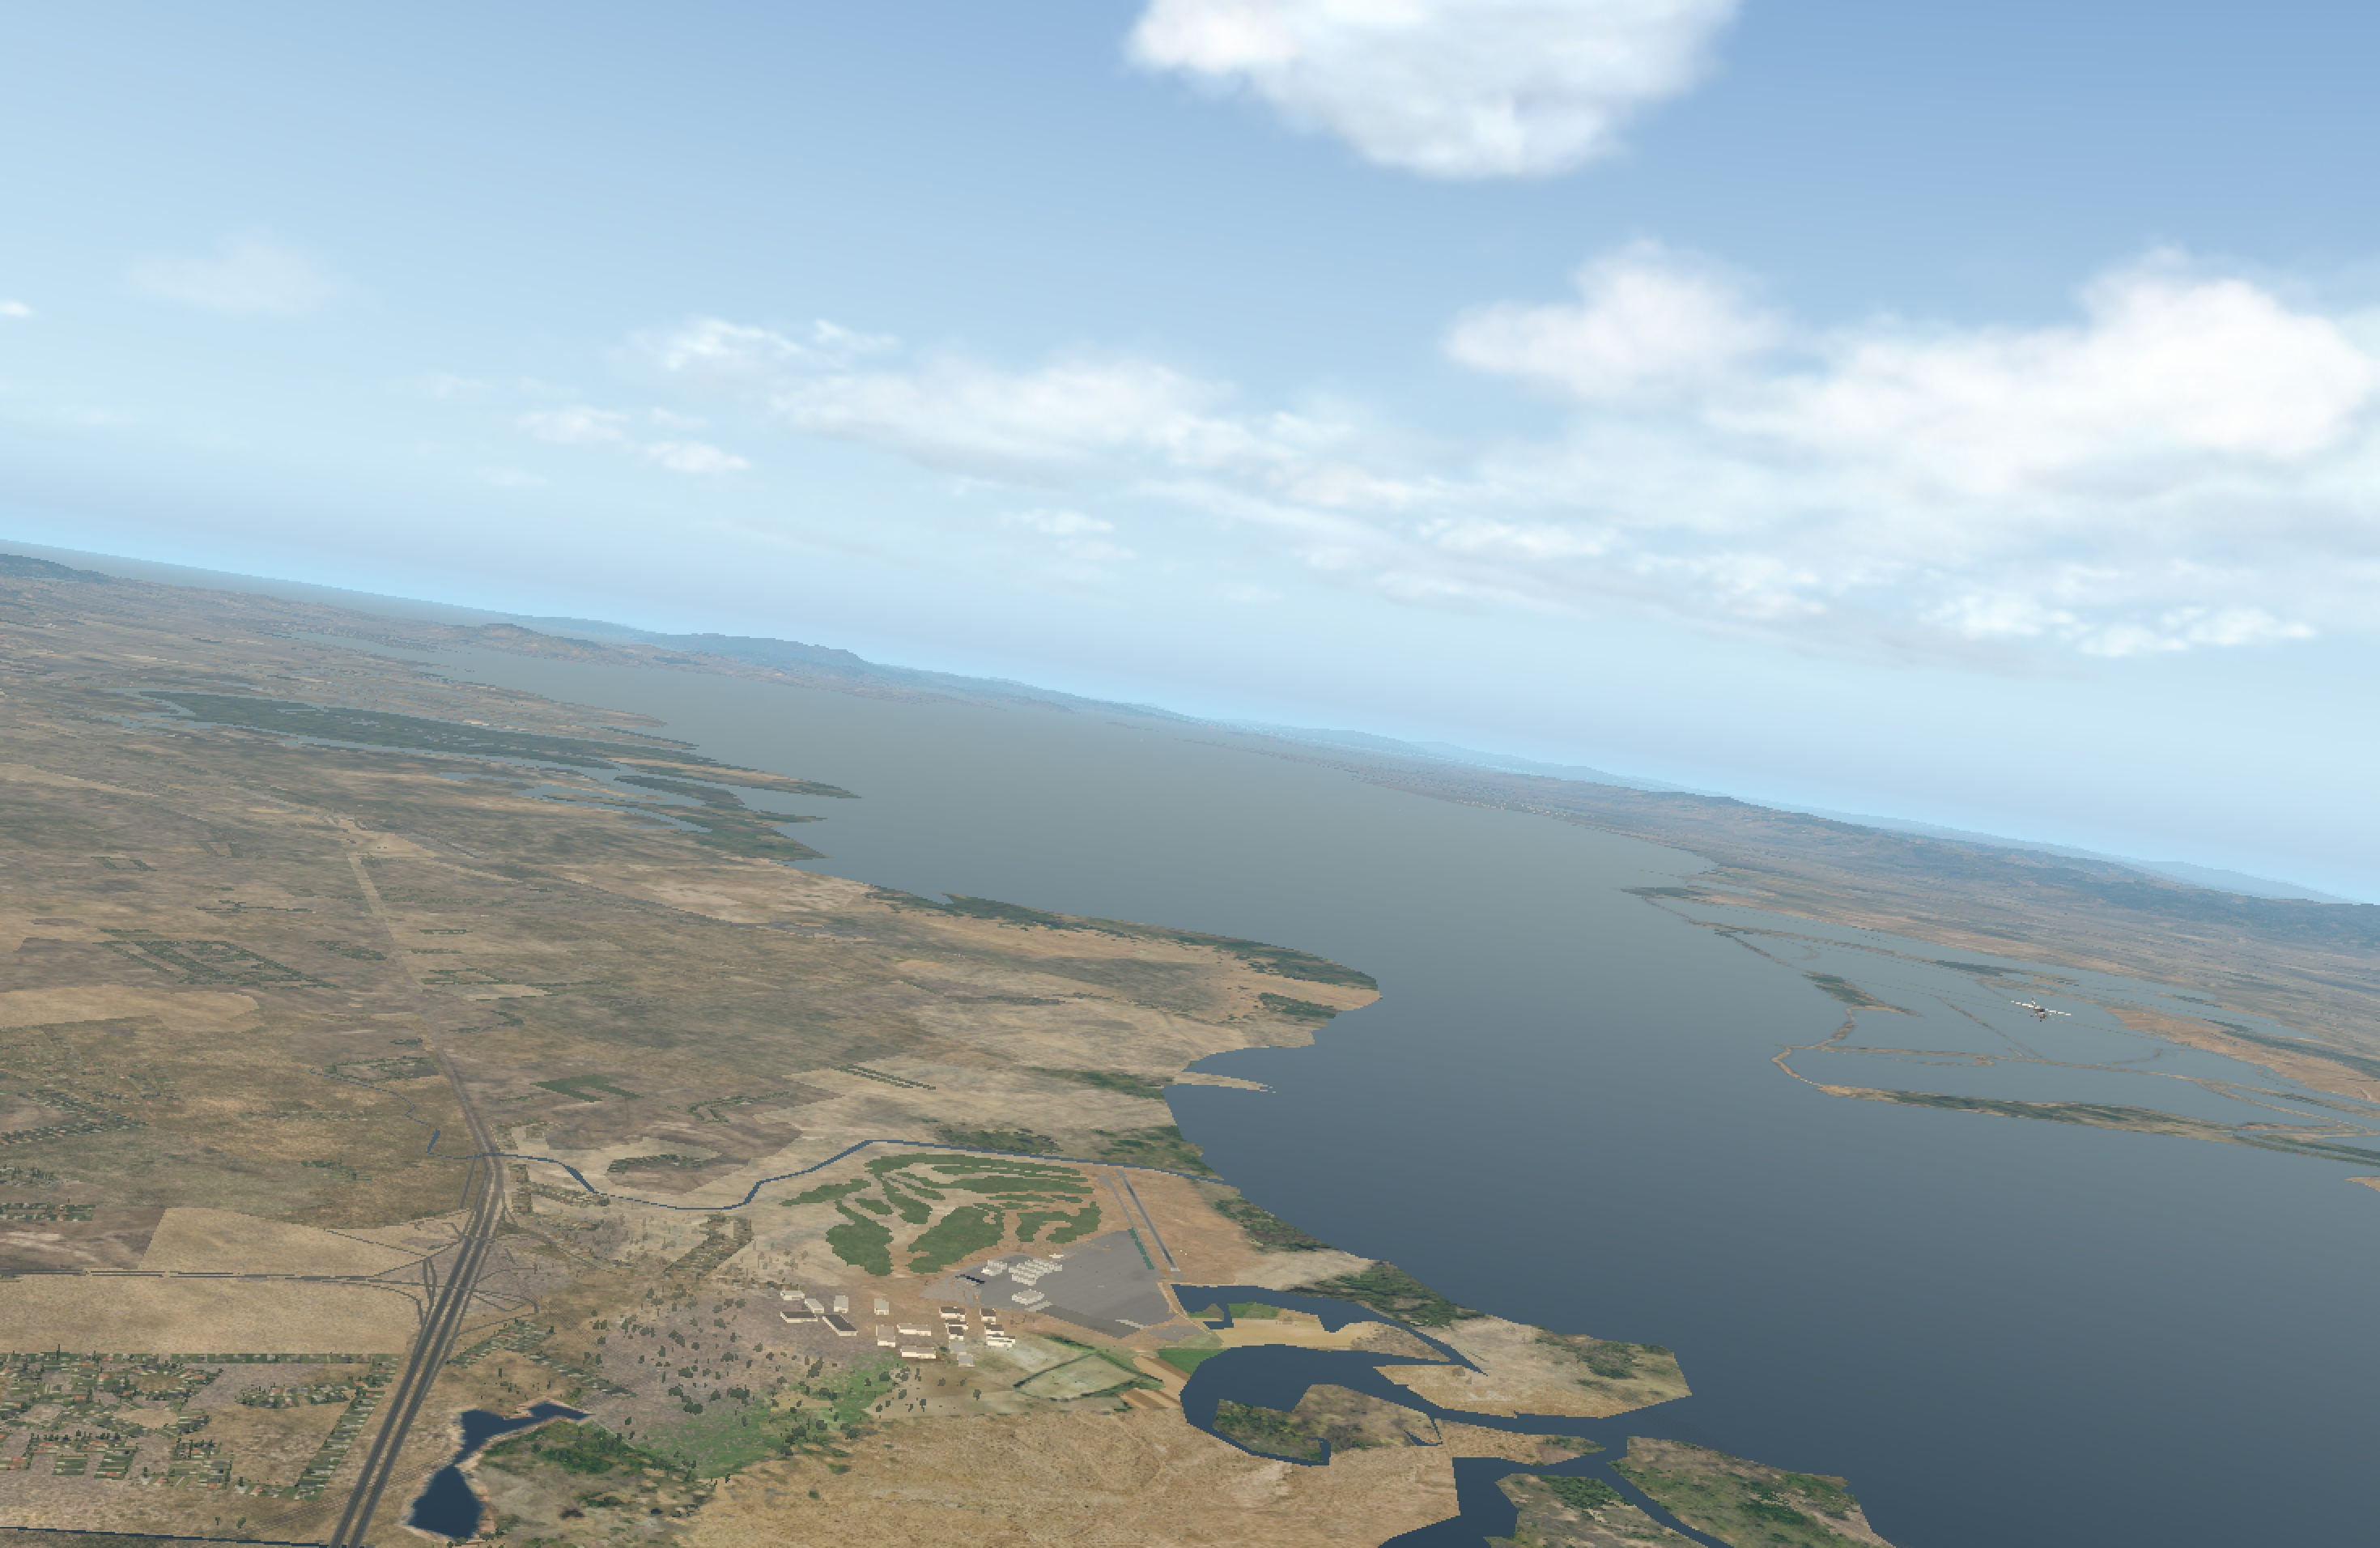aircraft: (2021, 1005, 2061, 1019)
